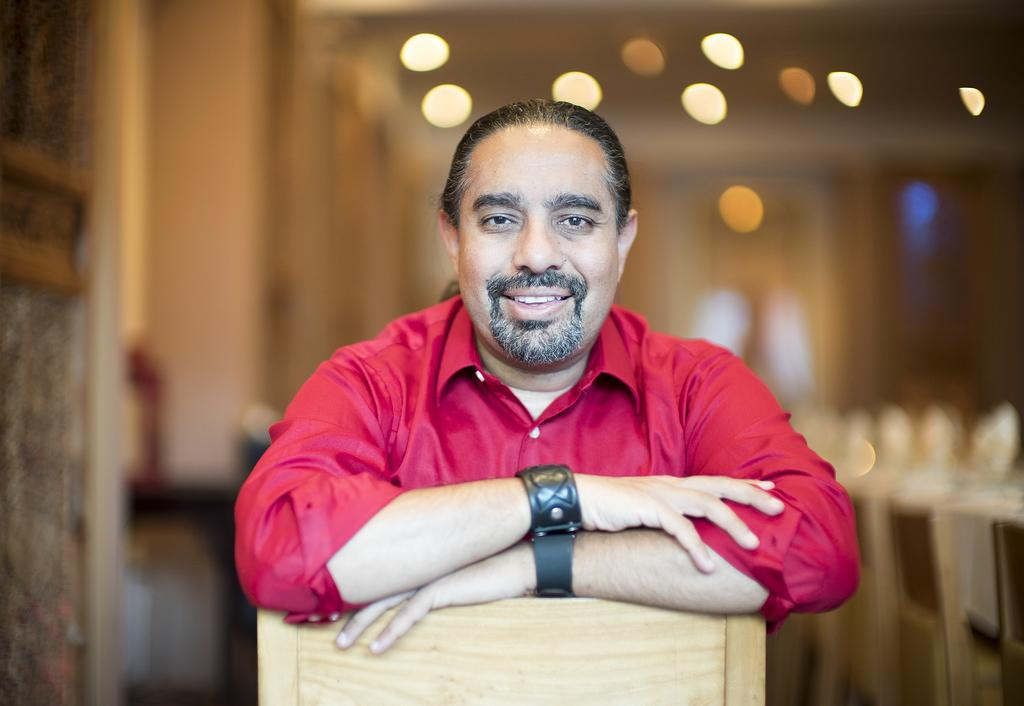Sem Máscara: (453, 115, 616, 366)
